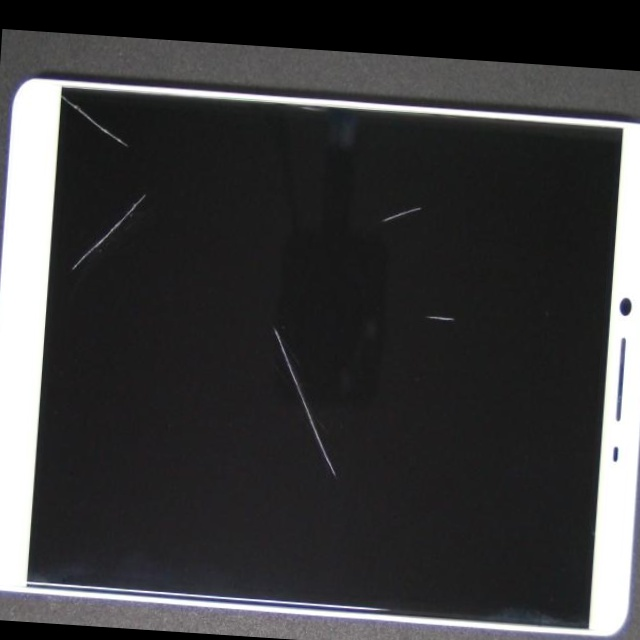scratch: (247, 183, 640, 447), (192, 331, 496, 612), (214, 148, 640, 314), (99, 64, 192, 312), (106, 111, 176, 170)
